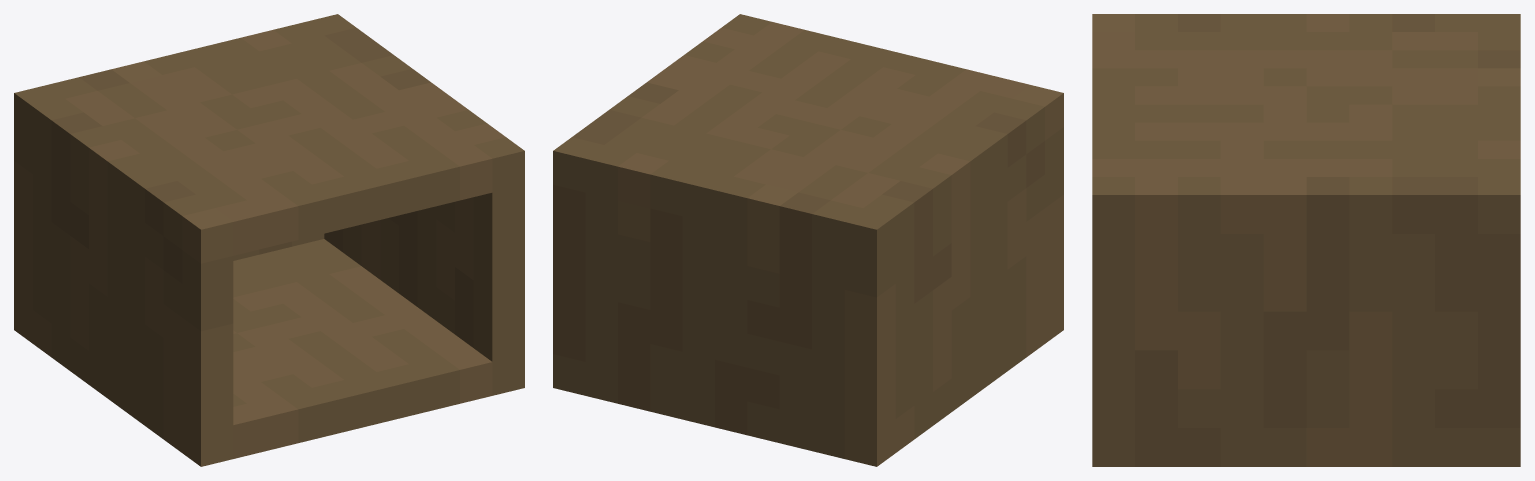
The model's file is Decor-69.obj.
3 views of the same model, side by side, from view 1: azimuth 30°, elevation 25°; view 2: azimuth 150°, elevation 25°; view 3: azimuth 270°, elevation 25° (orthographic). The views are drawn at different scales.
Size of the model in its own units: 1 by 0.7 by 1.
Materials: 1 (1 with a texture image).
